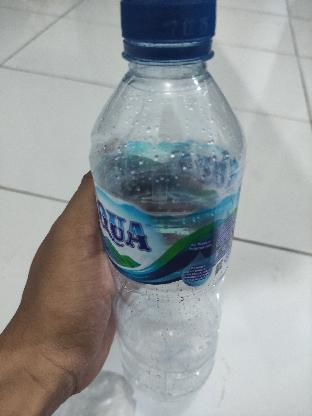Plastic Bottle: (64, 0, 265, 416)
